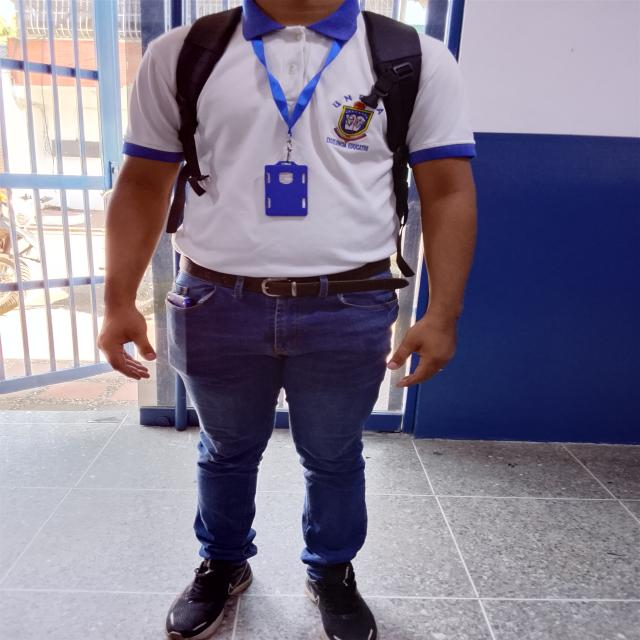carnet: (264, 165, 308, 216)
uniforme_superior: (122, 0, 478, 277)
